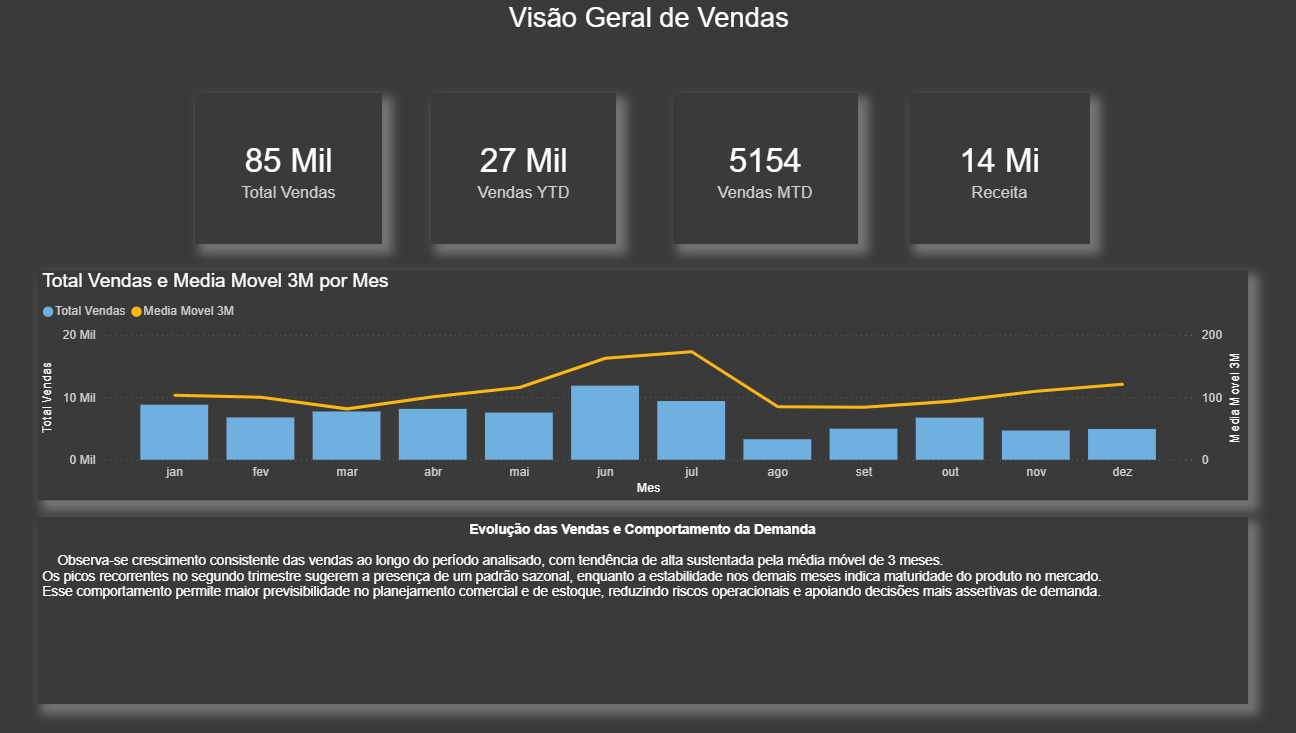

What the dashboard file says about the page in this screenshot:
{"tool":"powerbi","page":{"name":"Visão Geral","canvas":[1280,720],"ordinal":0},"visuals":[{"type":"lineStackedColumnComboChart","fields":{"Y":["Retail Sales Forecasting.Total Vendas"],"Y2":["Retail Sales Forecasting.Media Movel 3M"],"Category":["Tabela Calendario.Mes"]},"box":[44.8,265.1,1177.9,223.5],"z":0},{"type":"textbox","box":[44.8,505.7,1177.9,182.2],"z":1000},{"type":"card","fields":{"Values":["Retail Sales Forecasting.Total Vendas"]},"box":[198.3,93.6,182.2,147.2],"z":2000},{"type":"card","fields":{"Values":["Retail Sales Forecasting.Vendas YTD"]},"box":[428.2,93.6,180.4,147.2],"z":3000},{"type":"card","fields":{"Values":["Retail Sales Forecasting.Vendas MTD (Último mês)"]},"box":[663.4,93.6,179.6,147.2],"z":4000},{"type":"card","fields":{"Values":["Retail Sales Forecasting.Receita"]},"box":[893.2,93.6,176,147.2],"z":5000},{"type":"textbox","box":[476.6,0,326.8,79.8],"z":6000}]}

Visuals, with their boxes in screenshot pixels (x1, y1, x2, y2), scaled from the page's 1280x720 canvas onto the 1296x733 screenshot:
lineStackedColumnComboChart - Retail Sales Forecasting.Total Vendas x Retail Sales Forecasting.Media Movel 3M: [left=45, top=270, right=1238, bottom=497]
textbox: [left=45, top=515, right=1238, bottom=700]
card - Retail Sales Forecasting.Total Vendas: [left=201, top=95, right=385, bottom=245]
card - Retail Sales Forecasting.Vendas YTD: [left=434, top=95, right=616, bottom=245]
card - Retail Sales Forecasting.Vendas MTD (Último mês): [left=672, top=95, right=854, bottom=245]
card - Retail Sales Forecasting.Receita: [left=904, top=95, right=1083, bottom=245]
textbox: [left=483, top=0, right=813, bottom=81]
